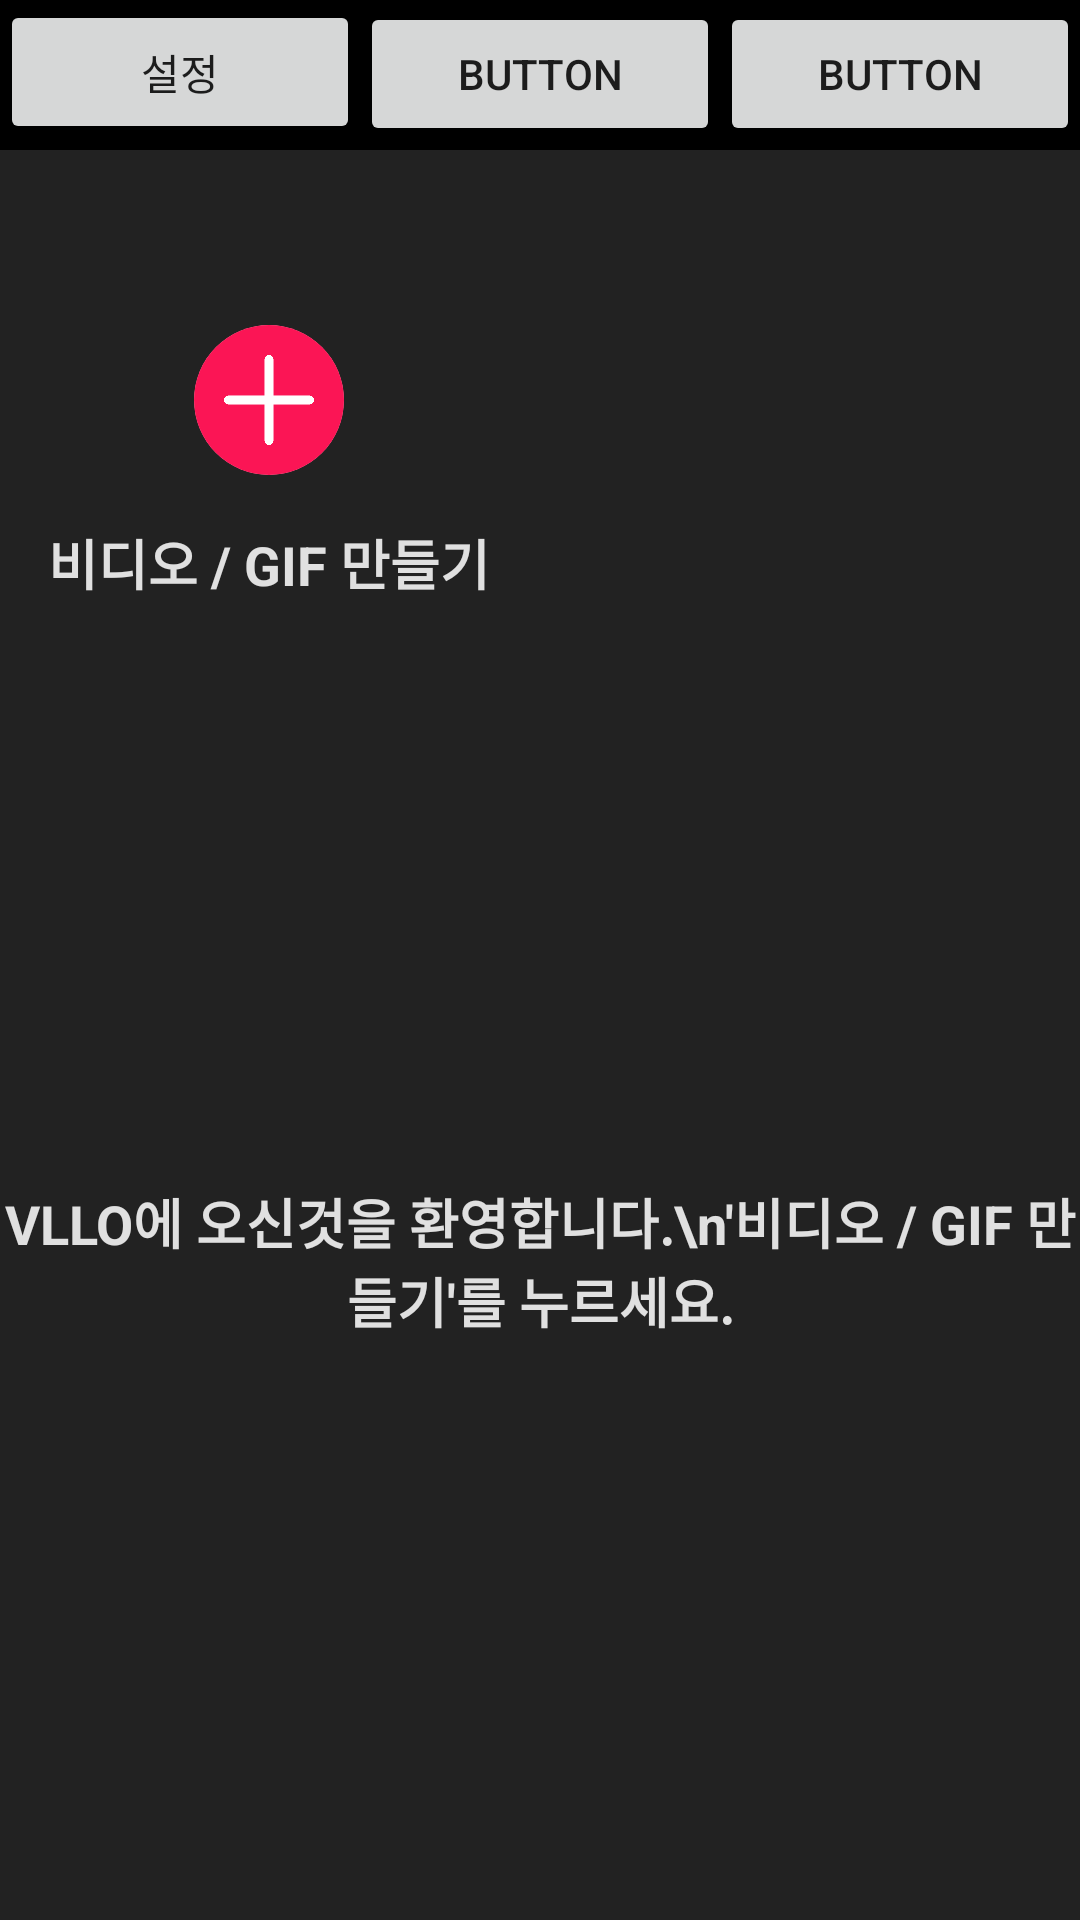

Icon click points for this 1080 x 1920 phone screenshot, format (x,y):
plus: (269,400)
